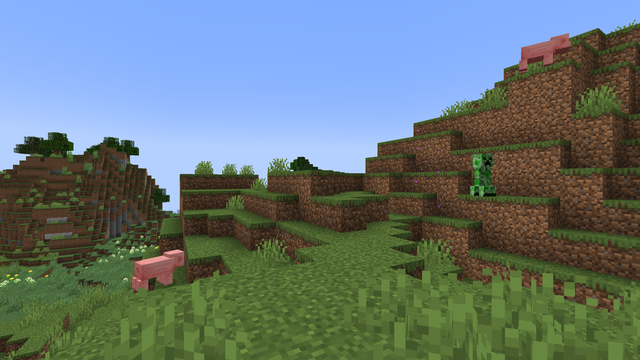cochons: (518, 37, 556, 72), (137, 253, 169, 289)
creepers: (470, 151, 494, 196)
